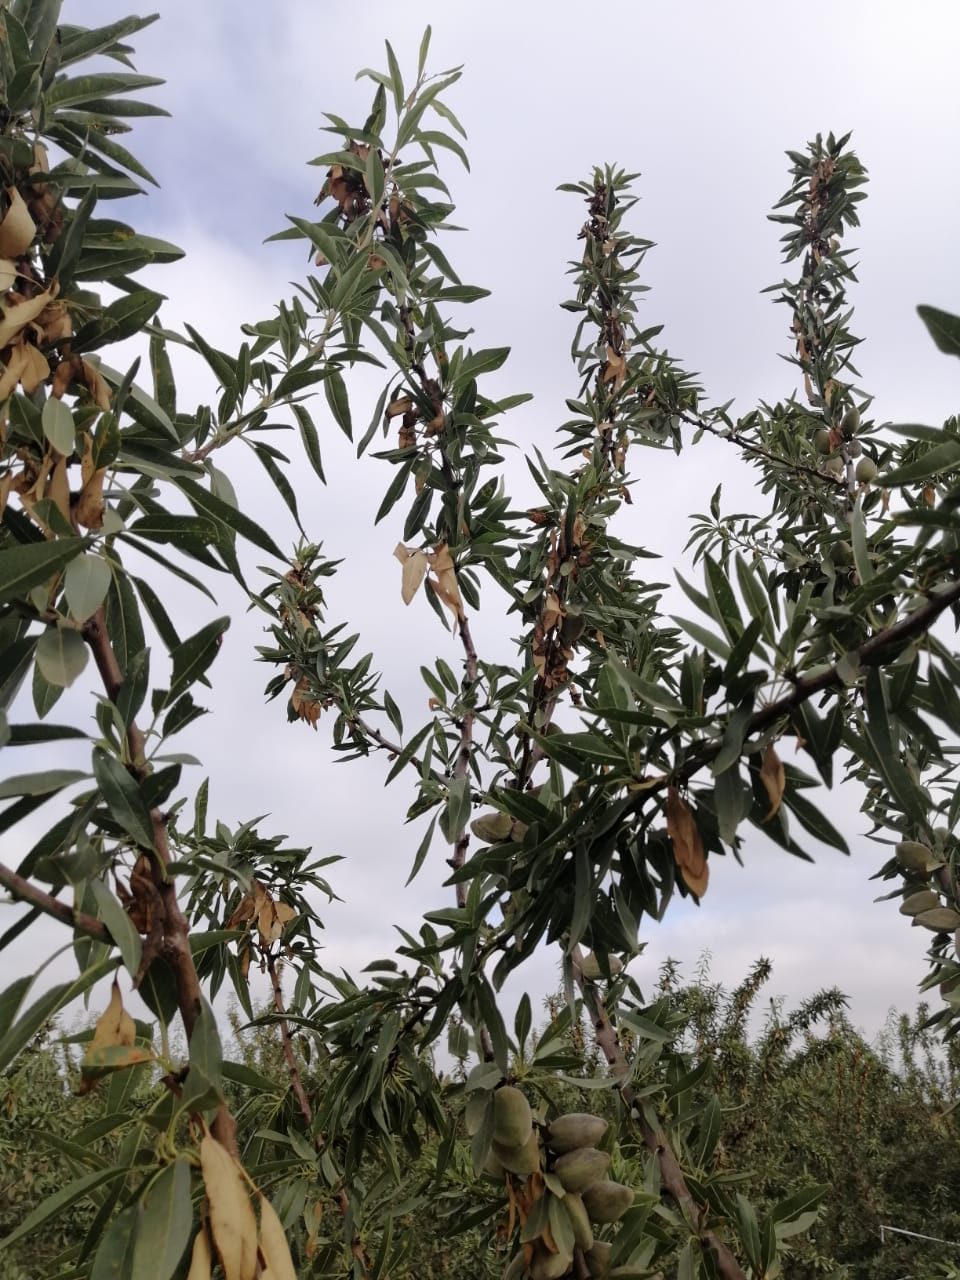scolytes: (1, 184, 124, 548), (315, 141, 461, 438), (603, 719, 784, 908), (253, 545, 353, 726), (519, 495, 595, 685)
